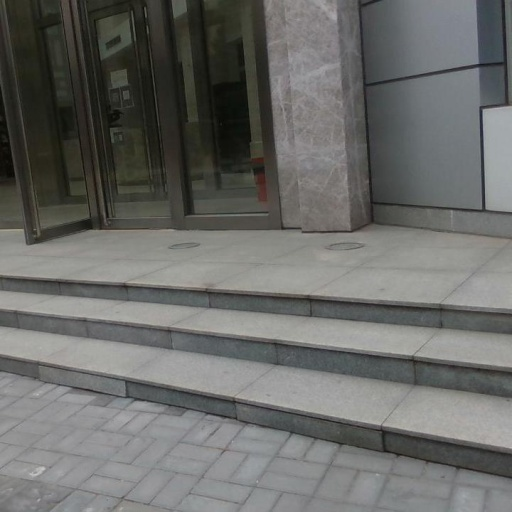Stairs: (0, 276, 512, 476)
